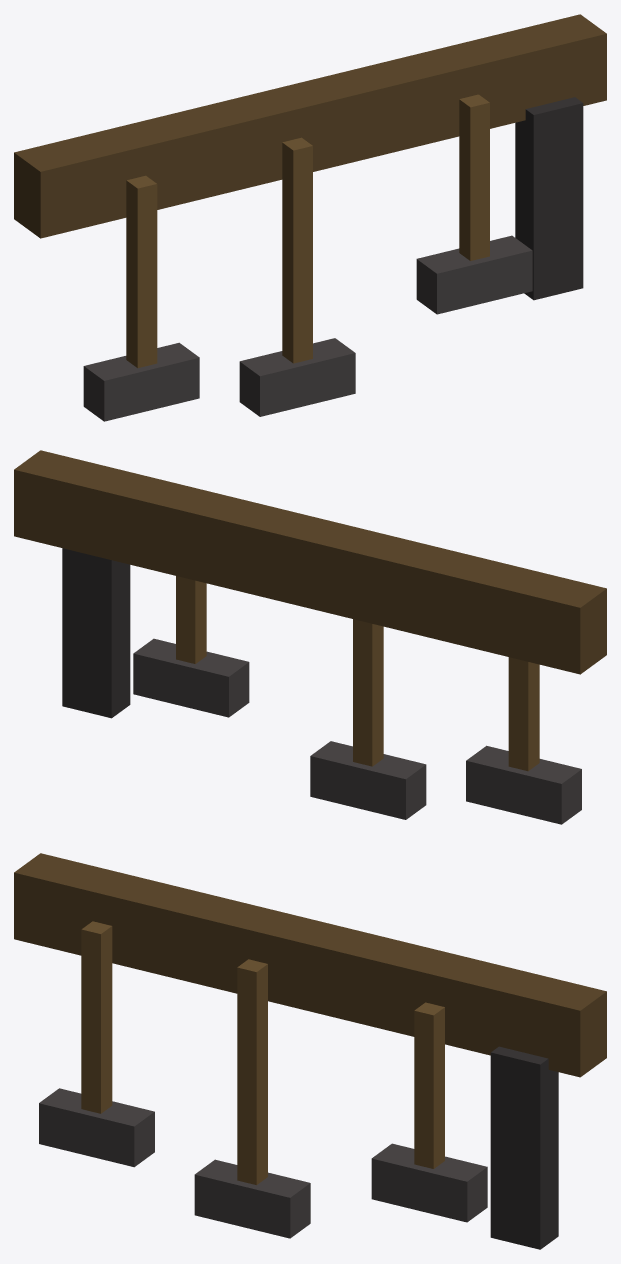
Rendered from supply_rack.glb.
3 views of the same model, one above another, from view 1: azimuth 30°, elevation 25°; view 2: azimuth 150°, elevation 25°; view 3: azimuth 330°, elevation 25° (orthographic).
Parts seen in each view (by area): view 1: supply_rack; view 2: supply_rack; view 3: supply_rack.
Boxes of the visible parts, x1,y1,x2,y2 form: supply_rack: (14,14,606,421); supply_rack: (14,450,606,824); supply_rack: (14,853,606,1249).
Size of the model in its own units: 1.6 by 0.755 by 0.225.
